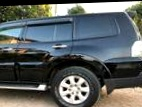car: (0, 10, 142, 107)
